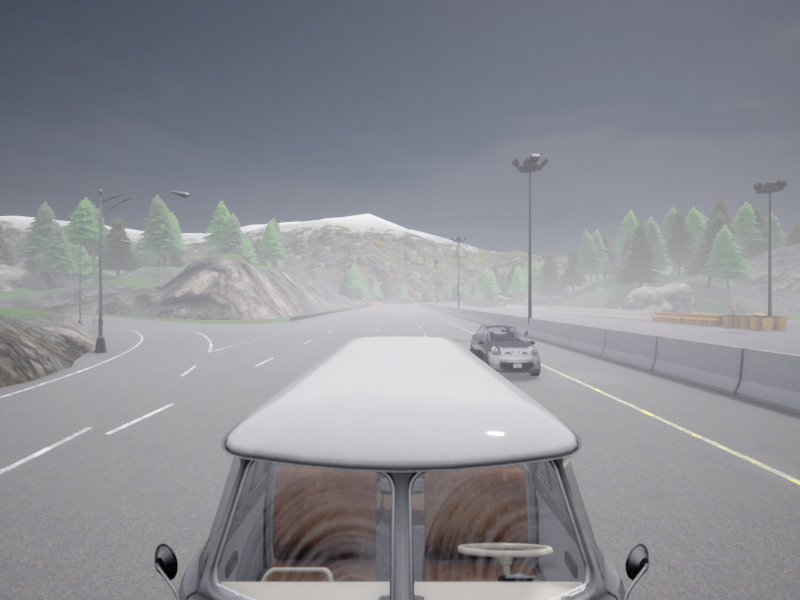vehicle: (154, 337, 648, 599), (470, 325, 540, 375)
